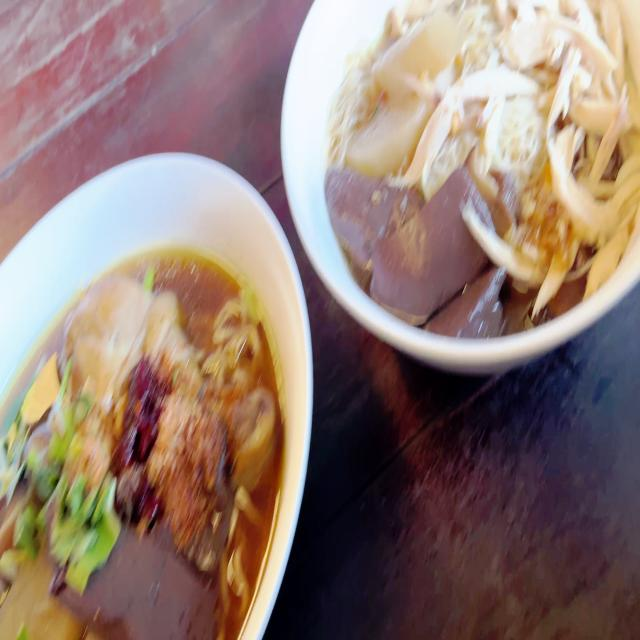boiled_chicken_blood_jelly: (334, 168, 538, 327), (90, 530, 214, 630)
chicken_drumstick: (63, 275, 280, 476)
chicken_shredded: (525, 4, 640, 198)
daikon_radish: (362, 11, 437, 177), (0, 554, 64, 640)
noodle: (0, 220, 288, 640), (325, 0, 640, 341)
